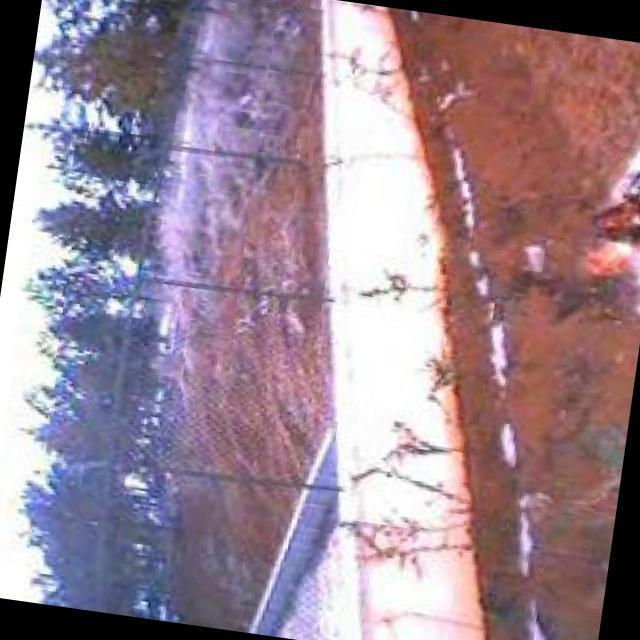Fire: (574, 156, 640, 285)
